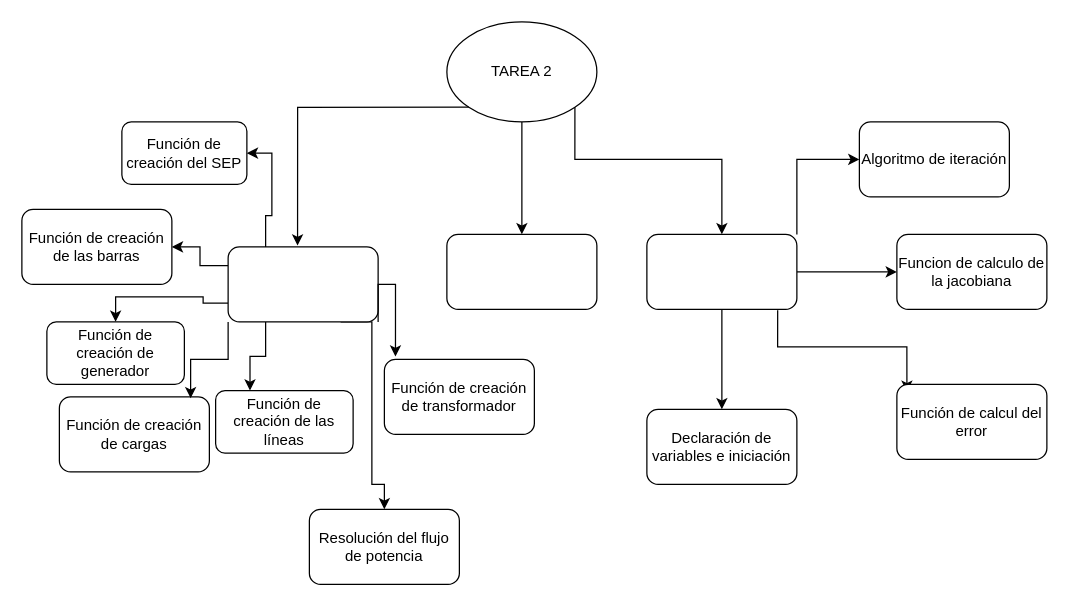
Some shapes in this 1069 by 606 pixel diagram are drawn without their labels. Here are the shapes that lost their labels. From the top down, the box of each, then its label:
(227, 246, 378, 322): Algoritmo PandaPower: tarea2_sep_1_pp
(446, 233, 597, 309): Informe
(646, 233, 797, 309): Algoritmo Newton-Raphson: tarea2_sep_1_nr
